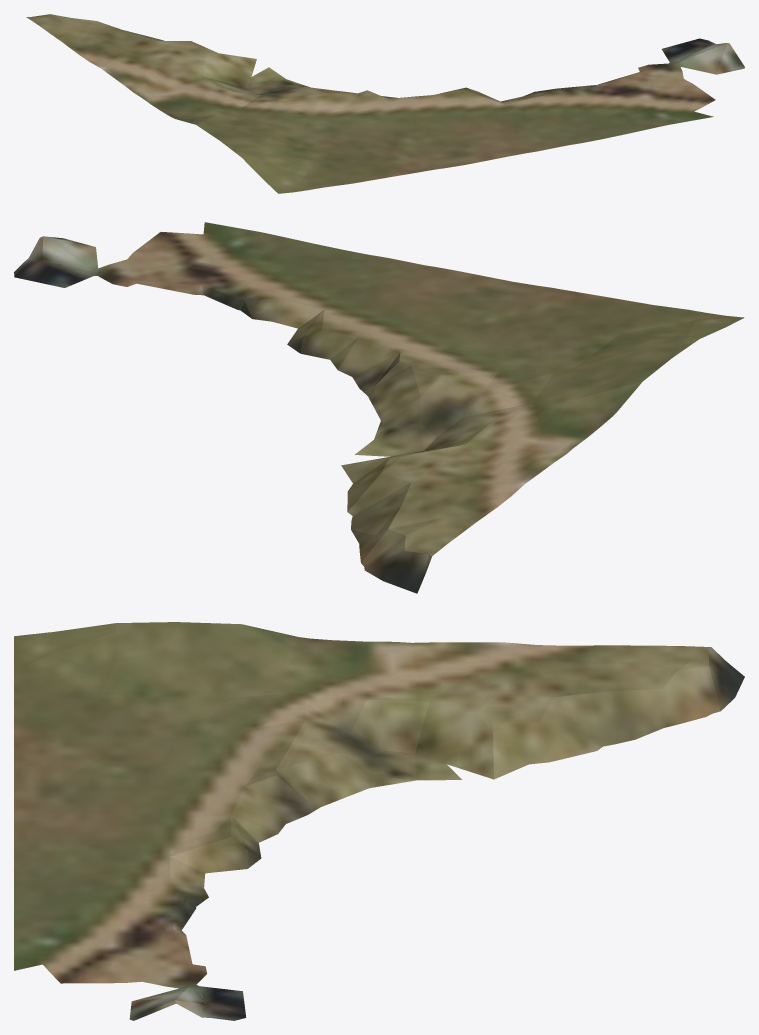
The picture shows the model from 3 angles, top to bottom: view 1: azimuth 30°, elevation 25°; view 2: azimuth 150°, elevation 25°; view 3: azimuth 270°, elevation 25°; orthographic projection. The views are drawn at different scales.
Size of the model in its own units: 52.22 by 3.88 by 46.88.
1 material, 1 textured.
